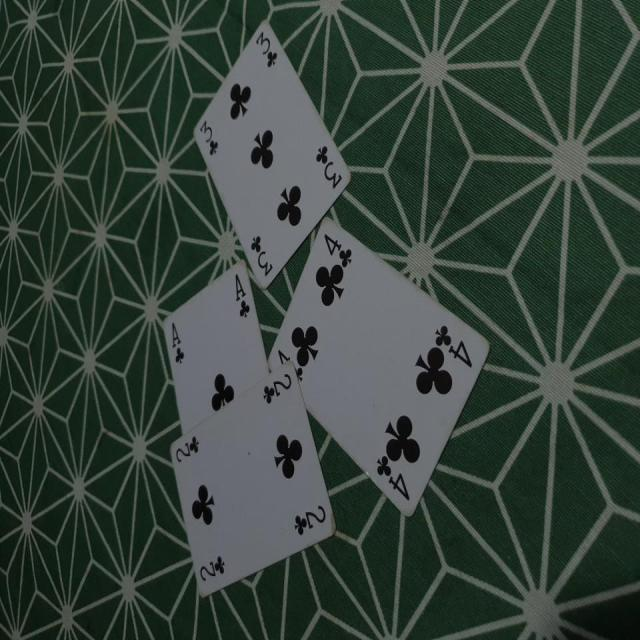2 Trefoils: (167, 361, 336, 598)
3 Trefoils: (191, 18, 352, 290)
4 Trefoils: (266, 217, 492, 522)
A Trefoils: (162, 260, 270, 436)
